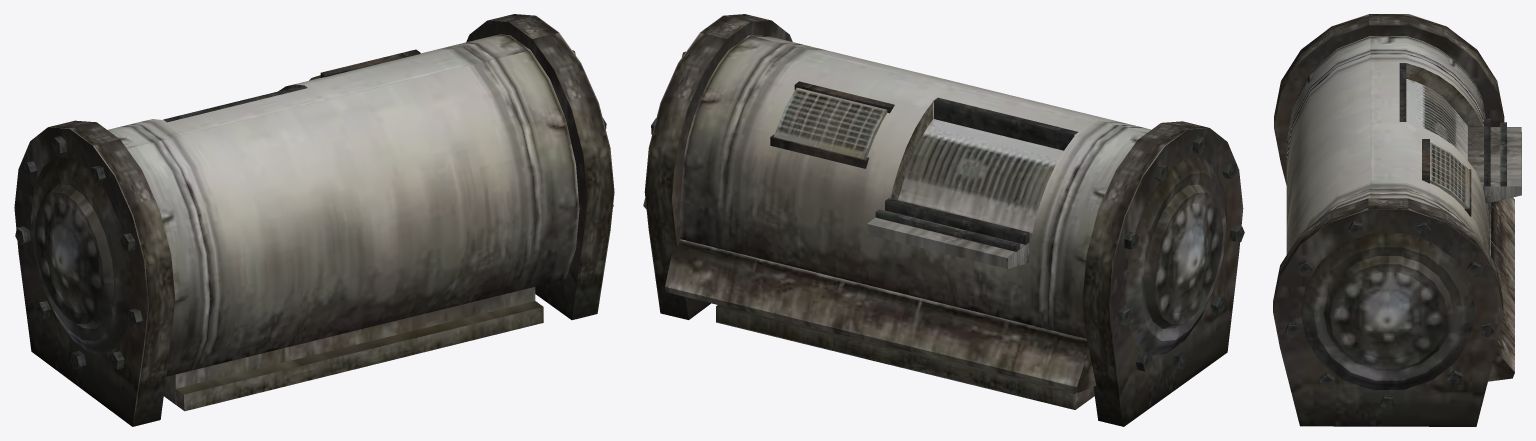
File: laundry_washer003.glb
The picture shows the model from 3 angles, left to right: view 1: azimuth 30°, elevation 25°; view 2: azimuth 150°, elevation 25°; view 3: azimuth 270°, elevation 25°; orthographic projection. The views are drawn at different scales.
Parts seen in each view (by area): view 1: 0_laundry_machines001; view 2: 0_laundry_machines001; view 3: 0_laundry_machines001.
Part boxes in pixels (bbox=[...]): 0_laundry_machines001: bbox=[14, 14, 614, 426]; 0_laundry_machines001: bbox=[643, 14, 1244, 426]; 0_laundry_machines001: bbox=[1273, 14, 1521, 426].
Bounding box in the file's own units: 2.9 × 1.38 × 1.43.
1 material, 1 textured.
